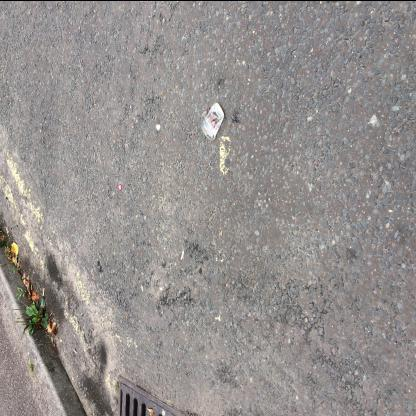plastik: (200, 102, 224, 140)
